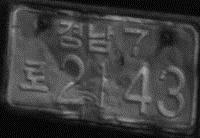1: (90, 58, 115, 109)
2: (55, 54, 84, 106)
3: (155, 64, 184, 119)
4: (122, 64, 152, 114)
7: (123, 25, 148, 57)
경남_O: (57, 18, 113, 52)
로: (17, 57, 48, 93)
